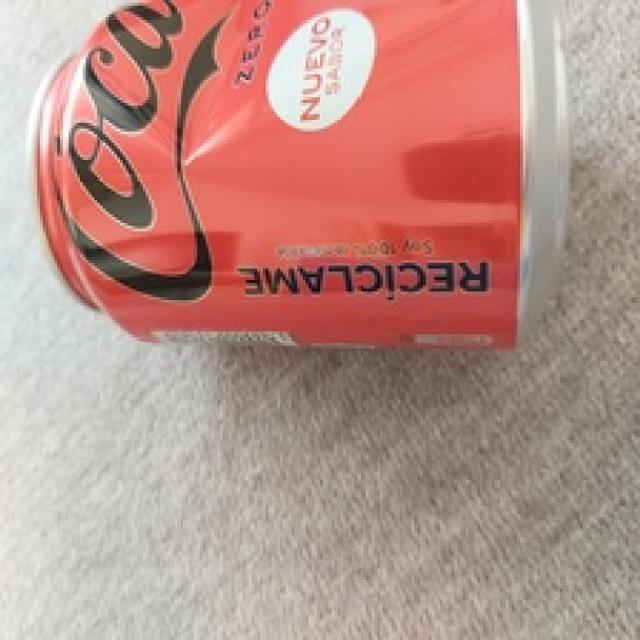recyclable: (29, 0, 565, 352)
